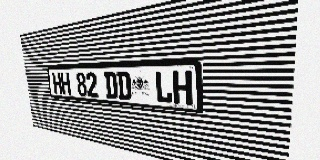2: (86, 72, 98, 97)
8: (76, 72, 88, 96)
D: (116, 72, 132, 100), (104, 72, 118, 99)
H: (172, 71, 192, 105), (60, 72, 71, 95), (52, 73, 62, 94)
L: (155, 71, 173, 104)
